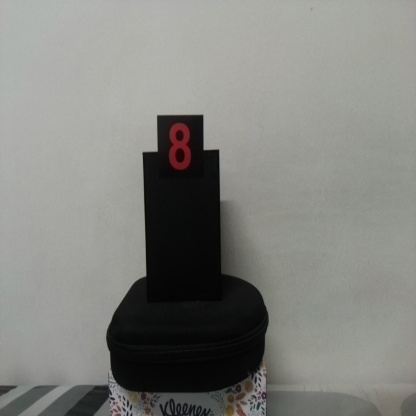id_8: (157, 115, 204, 188)
